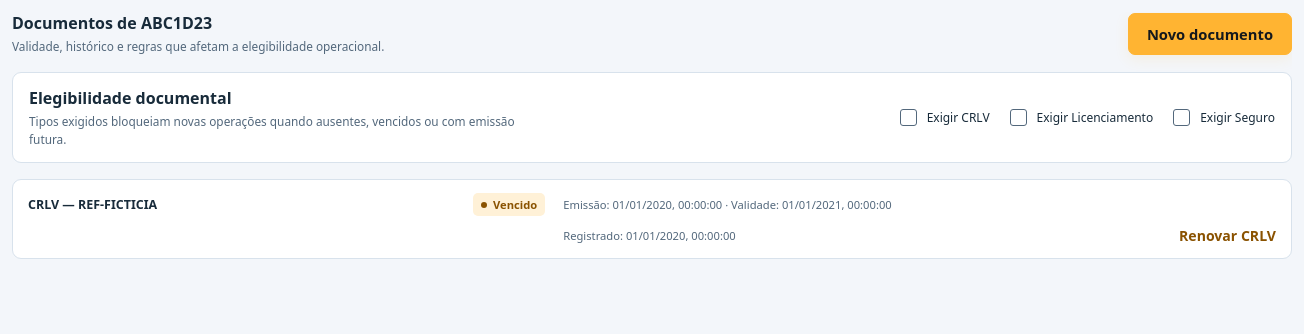
Scenario: apresenta falha de escrita sem atualizar consulta
Step 1. Click the checkbox labelled "Exigir CRLV" → [908, 118], box x1=900 y1=109 x2=917 y2=126
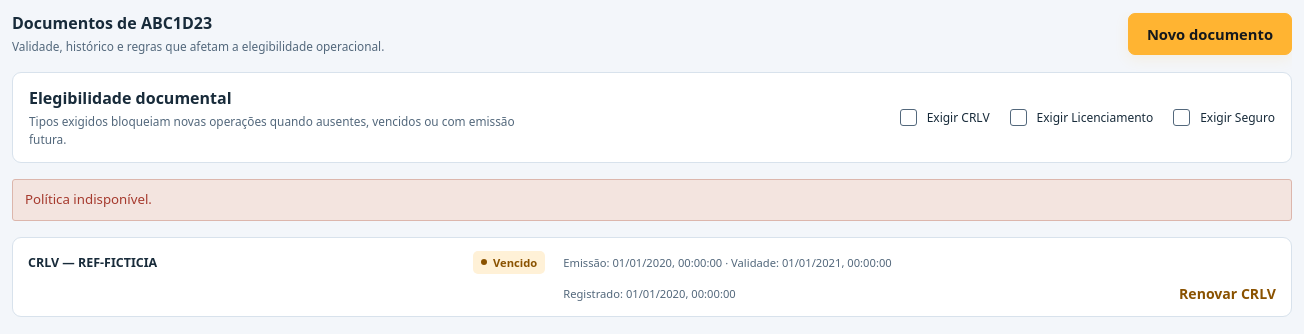
Check: the text "Política indisponível." is shown, box x1=12 y1=179 x2=1292 y2=221
